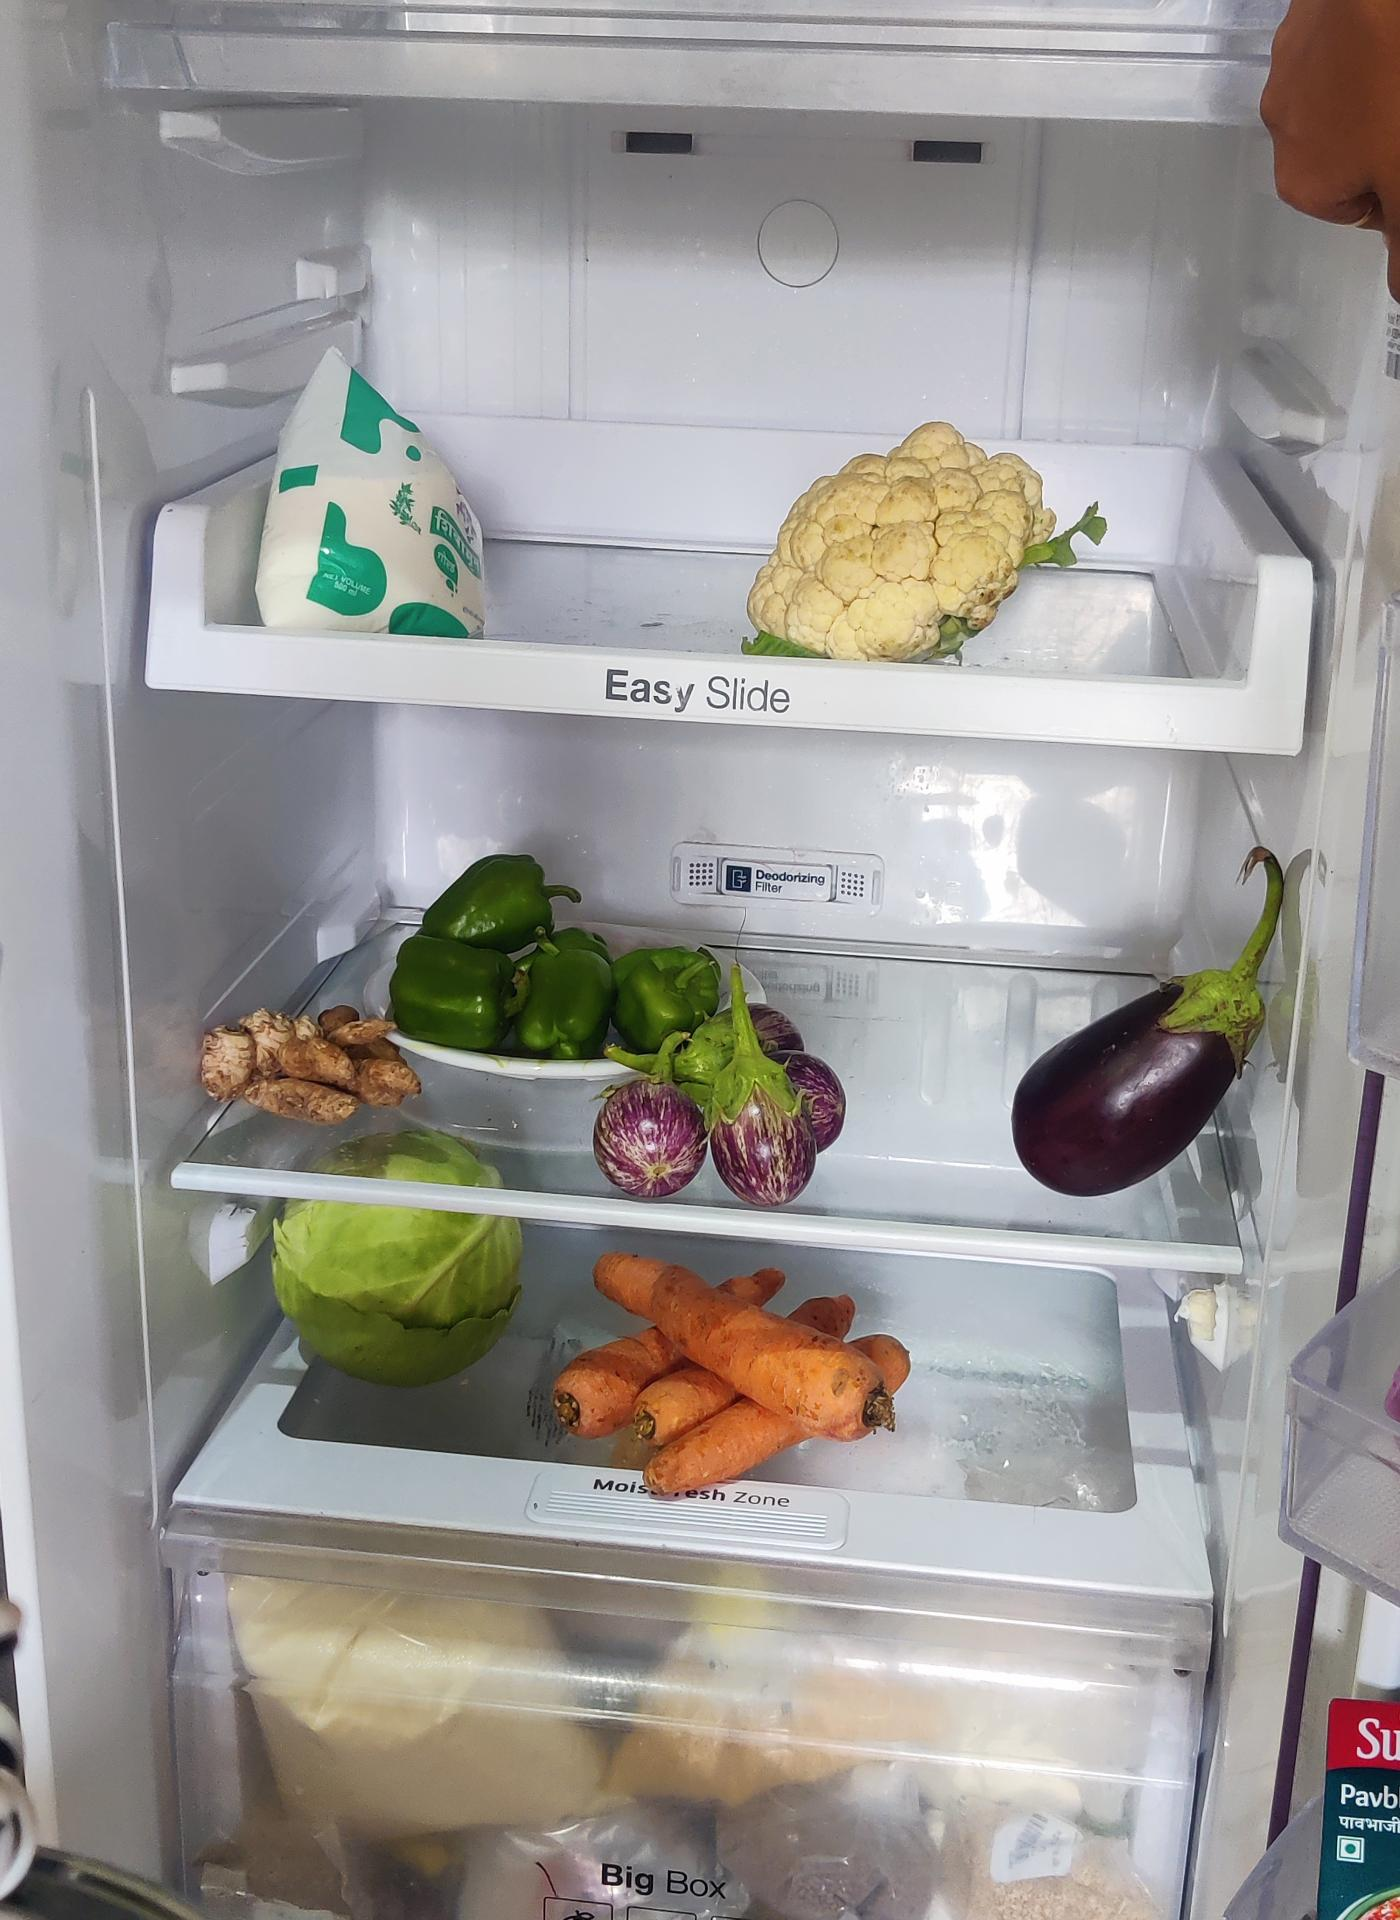brinjal: (1009, 943, 1259, 1186), (589, 995, 845, 1189)
cabbage: (269, 1192, 523, 1387)
capsicum: (386, 855, 724, 1064)
carrots: (557, 1247, 923, 1490)
cauliflower: (751, 429, 1061, 666)
ginger: (196, 1004, 420, 1125)
milk: (256, 356, 497, 644)
